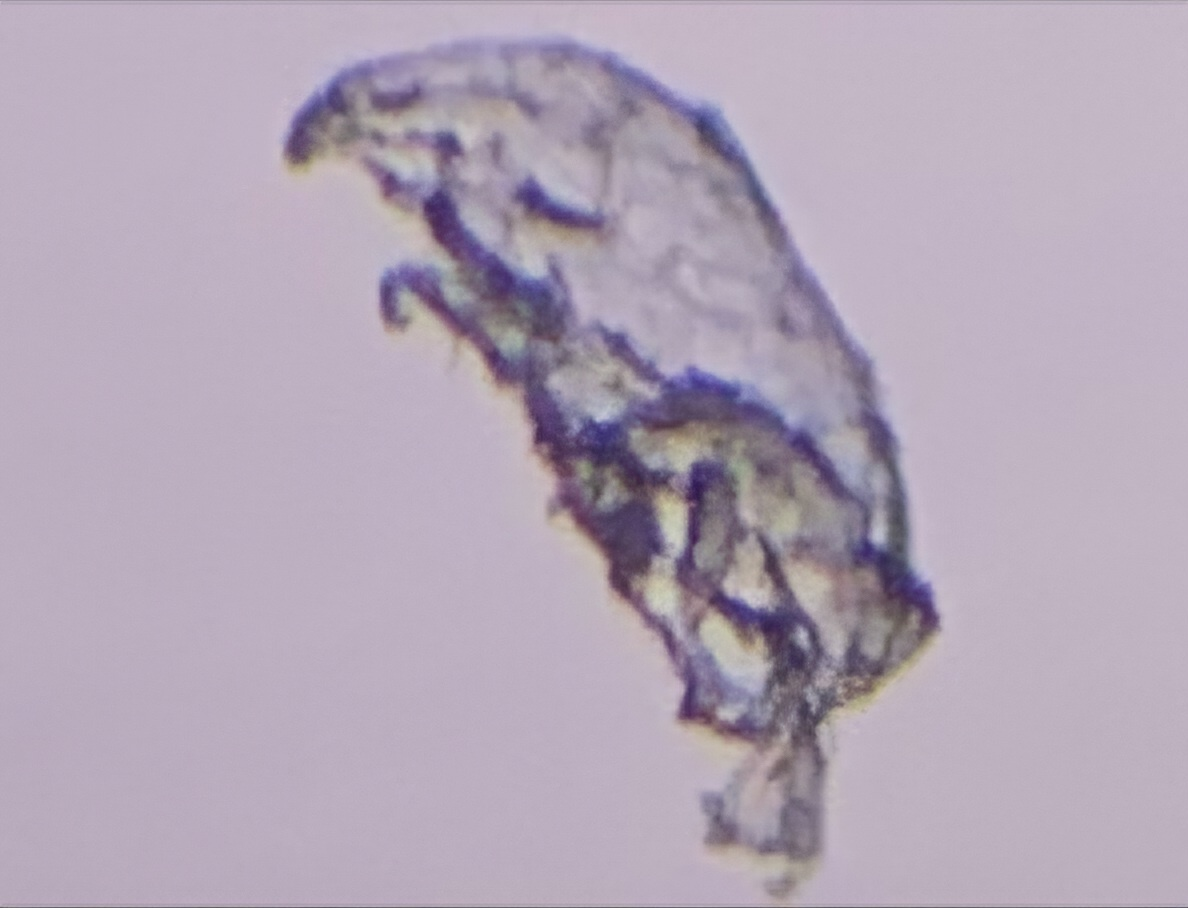microplastic: (285, 39, 944, 901)
